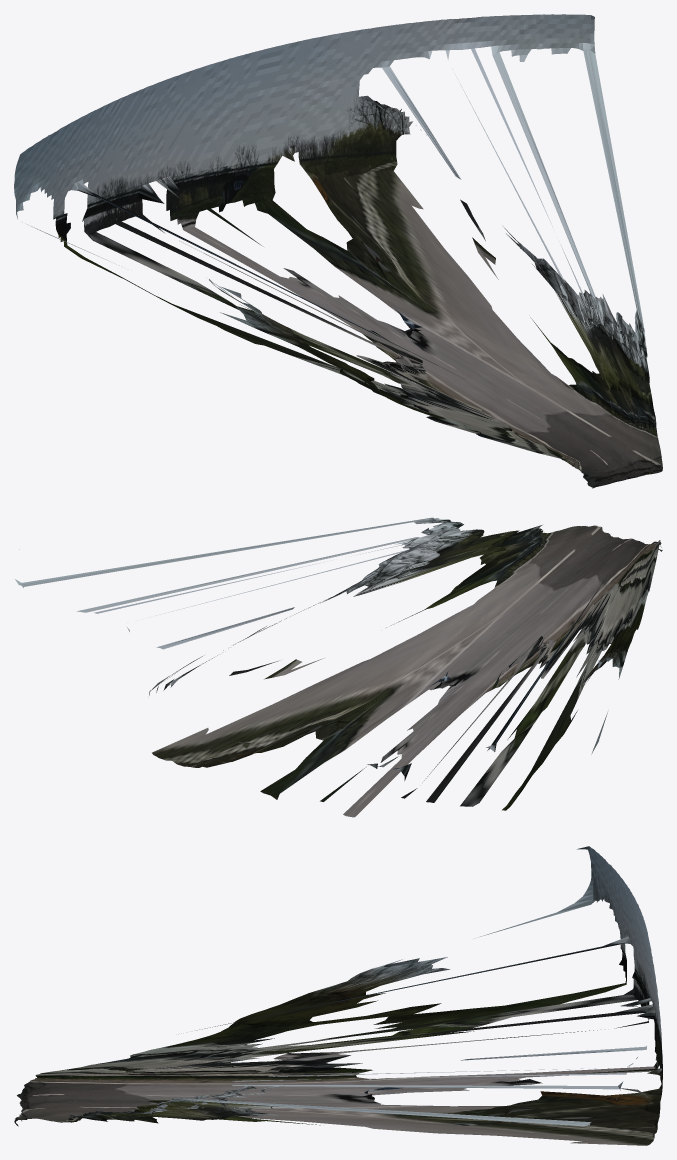
The picture shows the model from 3 angles, top to bottom: view 1: azimuth 30°, elevation 25°; view 2: azimuth 150°, elevation 25°; view 3: azimuth 270°, elevation 25°; orthographic projection. The views are drawn at different scales.
Visible parts, largest first — view 1: defaultobject; view 2: defaultobject; view 3: defaultobject.
Boxes of the visible parts, bbox=[...] form: defaultobject: bbox=[14, 14, 662, 488]; defaultobject: bbox=[15, 517, 662, 817]; defaultobject: bbox=[14, 846, 662, 1145].
Size of the model in its own units: 40.75 by 11.7 by 44.5.
1 material, 1 textured.
